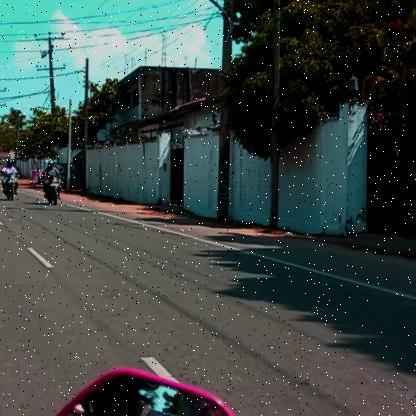motorcycle: (39, 173, 65, 208), (0, 170, 24, 204)
